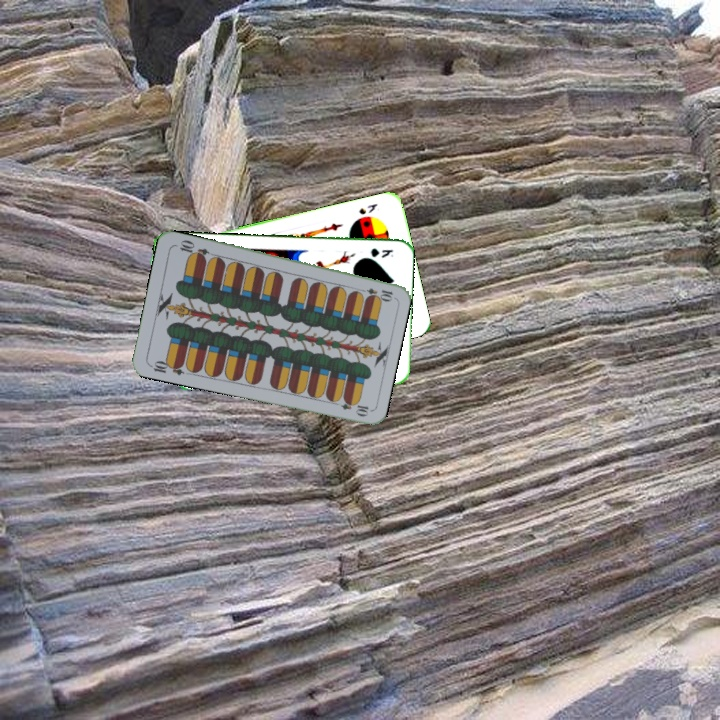E10: (146, 356, 186, 378), (355, 284, 395, 302)
GK: (367, 244, 396, 260)
SK: (355, 199, 380, 217)
